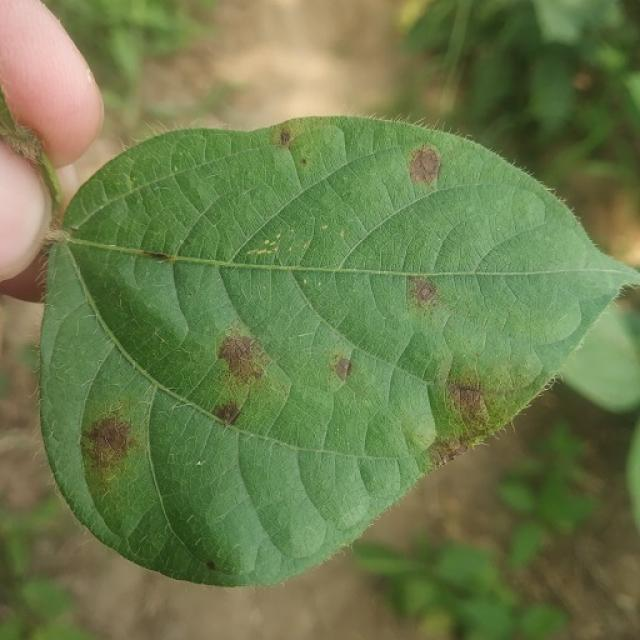Anthracnose: (220, 329, 279, 388), (82, 412, 137, 473), (447, 384, 490, 435), (408, 145, 442, 184), (409, 275, 439, 307), (332, 355, 352, 381), (144, 250, 173, 261), (279, 127, 292, 146)
Blackgram: (38, 116, 639, 591)
